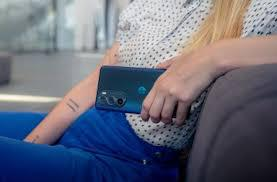Hand: (140, 58, 209, 123)
Smartphone: (100, 66, 179, 116)
